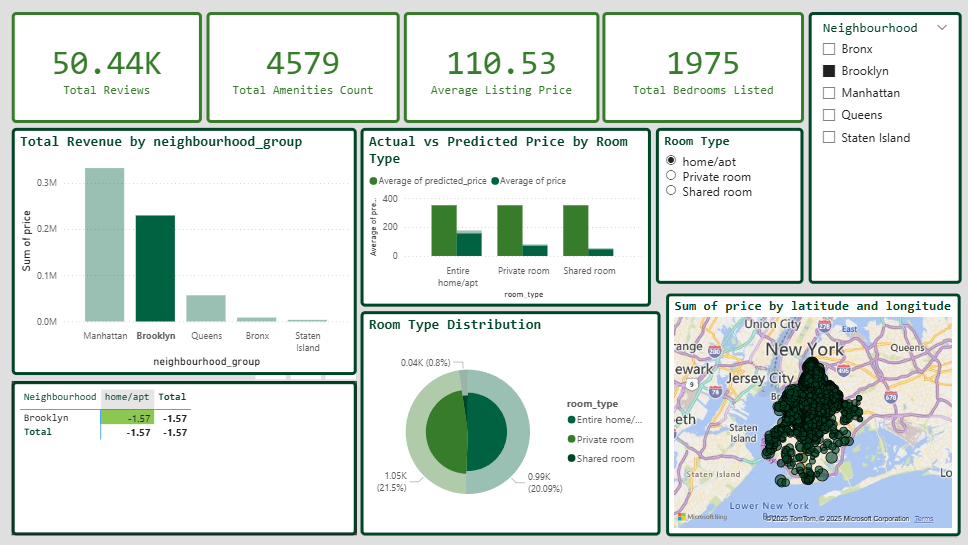

This screenshot's page, from the dashboard's own definition file:
{"tool":"powerbi","page":{"name":"Market Overview","canvas":[1280,720],"ordinal":0},"visuals":[{"type":"map","fields":{"Y":["Airbnb_PowerBI_Final_Dataset.latitude"],"X":["Airbnb_PowerBI_Final_Dataset.longitude"],"Size":["Sum(Airbnb_PowerBI_Final_Dataset.price)"]},"box":[874,386,386,318],"z":0},{"type":"clusteredColumnChart","title":"Actual vs Predicted Price by Room Type","fields":{"Y":["Avg(price_suggestion_grid.predicted_price)","Avg(Airbnb_PowerBI_Final_Dataset.price)"],"Category":["Airbnb_PowerBI_Final_Dataset.room_type"]},"box":[474,170,380,234],"z":1000},{"type":"pivotTable","fields":{"Rows":["price_suggestion_grid.neighbourhood_group"],"Columns":["price_suggestion_grid.room_type"],"Values":["Avg(Airbnb_PowerBI_Final_Dataset.Price_Suggestion_Diff)"]},"box":[16,502,452,202],"z":2000},{"type":"listSlicer","title":"Room Type","fields":{"Values":["price_suggestion_grid.room_type"]},"box":[860,170,193,204],"z":3000},{"type":"slicer","fields":{"Values":["price_suggestion_grid.neighbourhood_group"]},"box":[1060,18,200,356],"z":4000},{"type":"card","fields":{"Values":["Avg(Airbnb_PowerBI_Final_Dataset.price)"]},"box":[530,18,256,145],"z":5000},{"type":"card","fields":{"Values":["CountNonNull(Airbnb_PowerBI_Final_Dataset.bedrooms)"]},"box":[790,18,264,145],"z":6000},{"type":"columnChart","title":"Total Revenue by neighbourhood_group","fields":{"Category":["Airbnb_PowerBI_Final_Dataset.neighbourhood_group"],"Y":["Sum(Airbnb_PowerBI_Final_Dataset.price)"]},"box":[16,170,452,324],"z":7000},{"type":"pieChart","title":"Room Type Distribution","fields":{"Category":["Airbnb_PowerBI_Final_Dataset.room_type"],"Y":["CountNonNull(Airbnb_PowerBI_Final_Dataset.room_type)"]},"box":[474,410,393,294],"z":8000},{"type":"card","fields":{"Values":["Sum(Airbnb_PowerBI_Final_Dataset.amenities_count)"]},"box":[272,18,253,145],"z":9000},{"type":"card","fields":{"Values":["Sum(Airbnb_PowerBI_Final_Dataset.reviews)"]},"box":[16,18,249,145],"z":10000}]}

Visuals, with their boxes in screenshot pixels (x1, y1, x2, y2), scaled from the page's 1280x720 canvas onto the 968x545 screenshot:
map - Airbnb_PowerBI_Final_Dataset.latitude x Airbnb_PowerBI_Final_Dataset.longitude: <bbox>661, 292, 953, 533</bbox>
"Actual vs Predicted Price by Room Type" clusteredColumnChart: <bbox>358, 129, 646, 306</bbox>
pivotTable - price_suggestion_grid.neighbourhood_group x price_suggestion_grid.room_type: <bbox>12, 380, 354, 533</bbox>
"Room Type" listSlicer: <bbox>650, 129, 796, 283</bbox>
slicer - price_suggestion_grid.neighbourhood_group: <bbox>802, 14, 953, 283</bbox>
card - Avg(Airbnb_PowerBI_Final_Dataset.price): <bbox>401, 14, 594, 123</bbox>
card - CountNonNull(Airbnb_PowerBI_Final_Dataset.bedrooms): <bbox>597, 14, 797, 123</bbox>
"Total Revenue by neighbourhood_group" columnChart: <bbox>12, 129, 354, 374</bbox>
"Room Type Distribution" pieChart: <bbox>358, 310, 656, 533</bbox>
card - Sum(Airbnb_PowerBI_Final_Dataset.amenities_count): <bbox>206, 14, 397, 123</bbox>
card - Sum(Airbnb_PowerBI_Final_Dataset.reviews): <bbox>12, 14, 200, 123</bbox>
